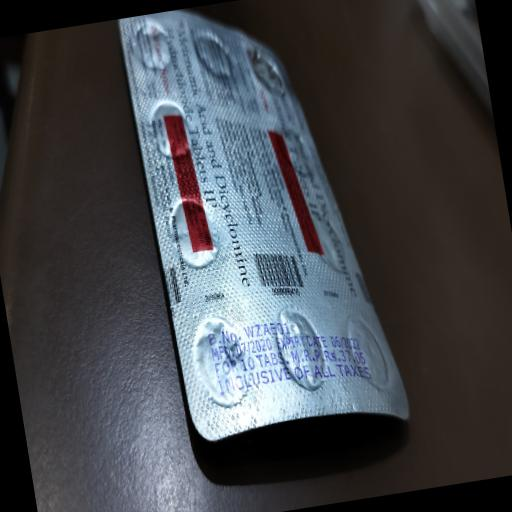Mefenamic-Acid-HCL-Tablets: (244, 29, 360, 318), (157, 4, 259, 305)
medicine: (117, 0, 412, 460)
